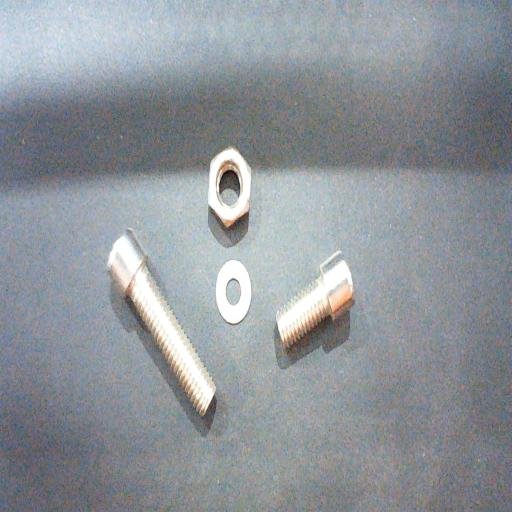nut: (207, 145, 252, 228)
screw: (106, 226, 216, 419), (276, 250, 355, 349)
washer: (215, 260, 252, 326)
